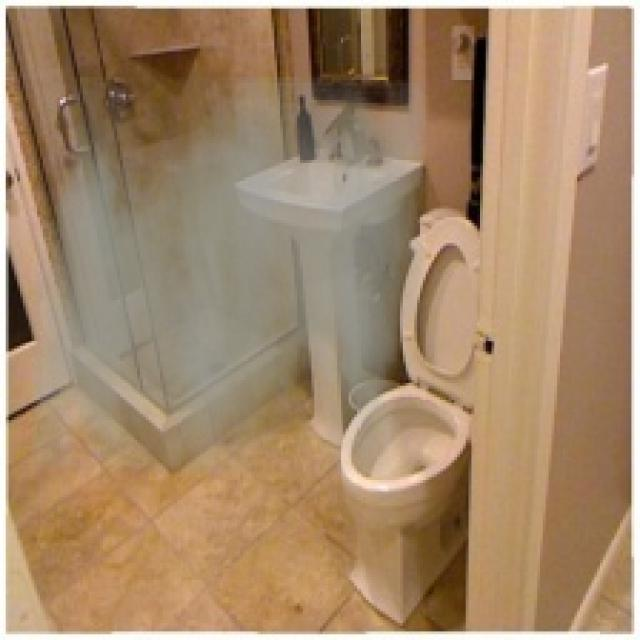Smoke: (31, 77, 426, 474)
